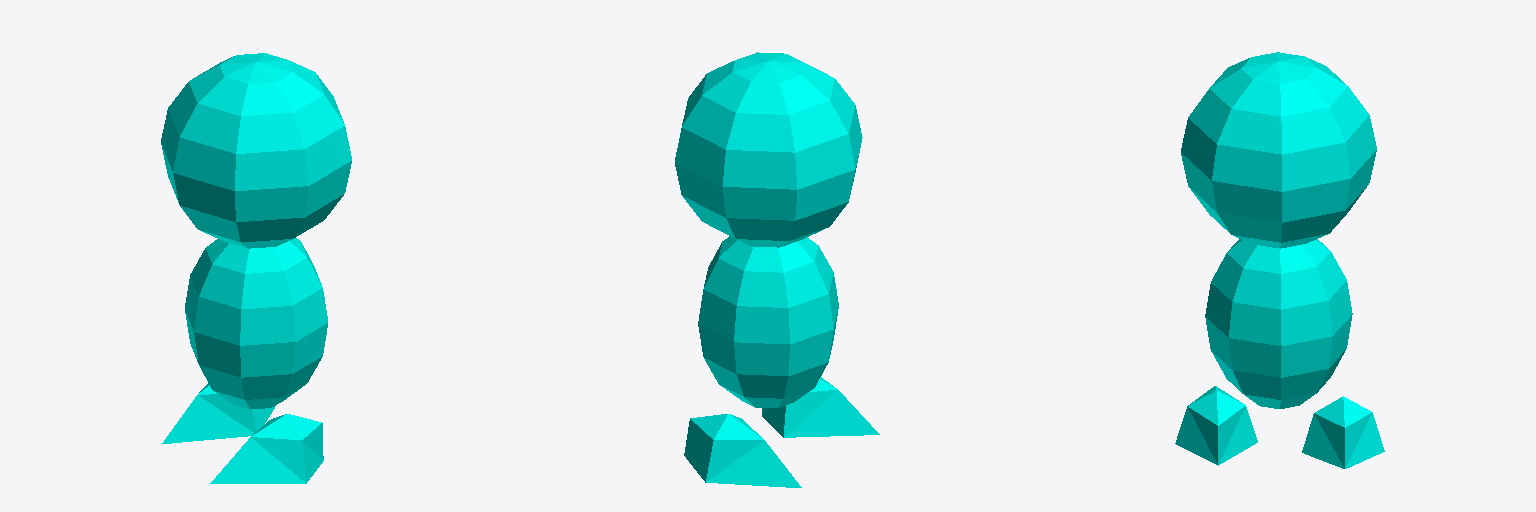
The picture shows the model from 3 angles: view 1: azimuth 30°, elevation 25°; view 2: azimuth 150°, elevation 25°; view 3: azimuth 270°, elevation 25°; orthographic projection.
Parts seen in each view (by area): view 1: body_球.003; view 2: body_球.003; view 3: body_球.003.
Boxes of the visible parts, <box> form: body_球.003: <box>161,53,351,483</box>; body_球.003: <box>675,52,879,487</box>; body_球.003: <box>1175,52,1384,468</box>.
Bounding box in the file's own units: 2 × 4.37 × 2.13.
1 materials, 1 textured.